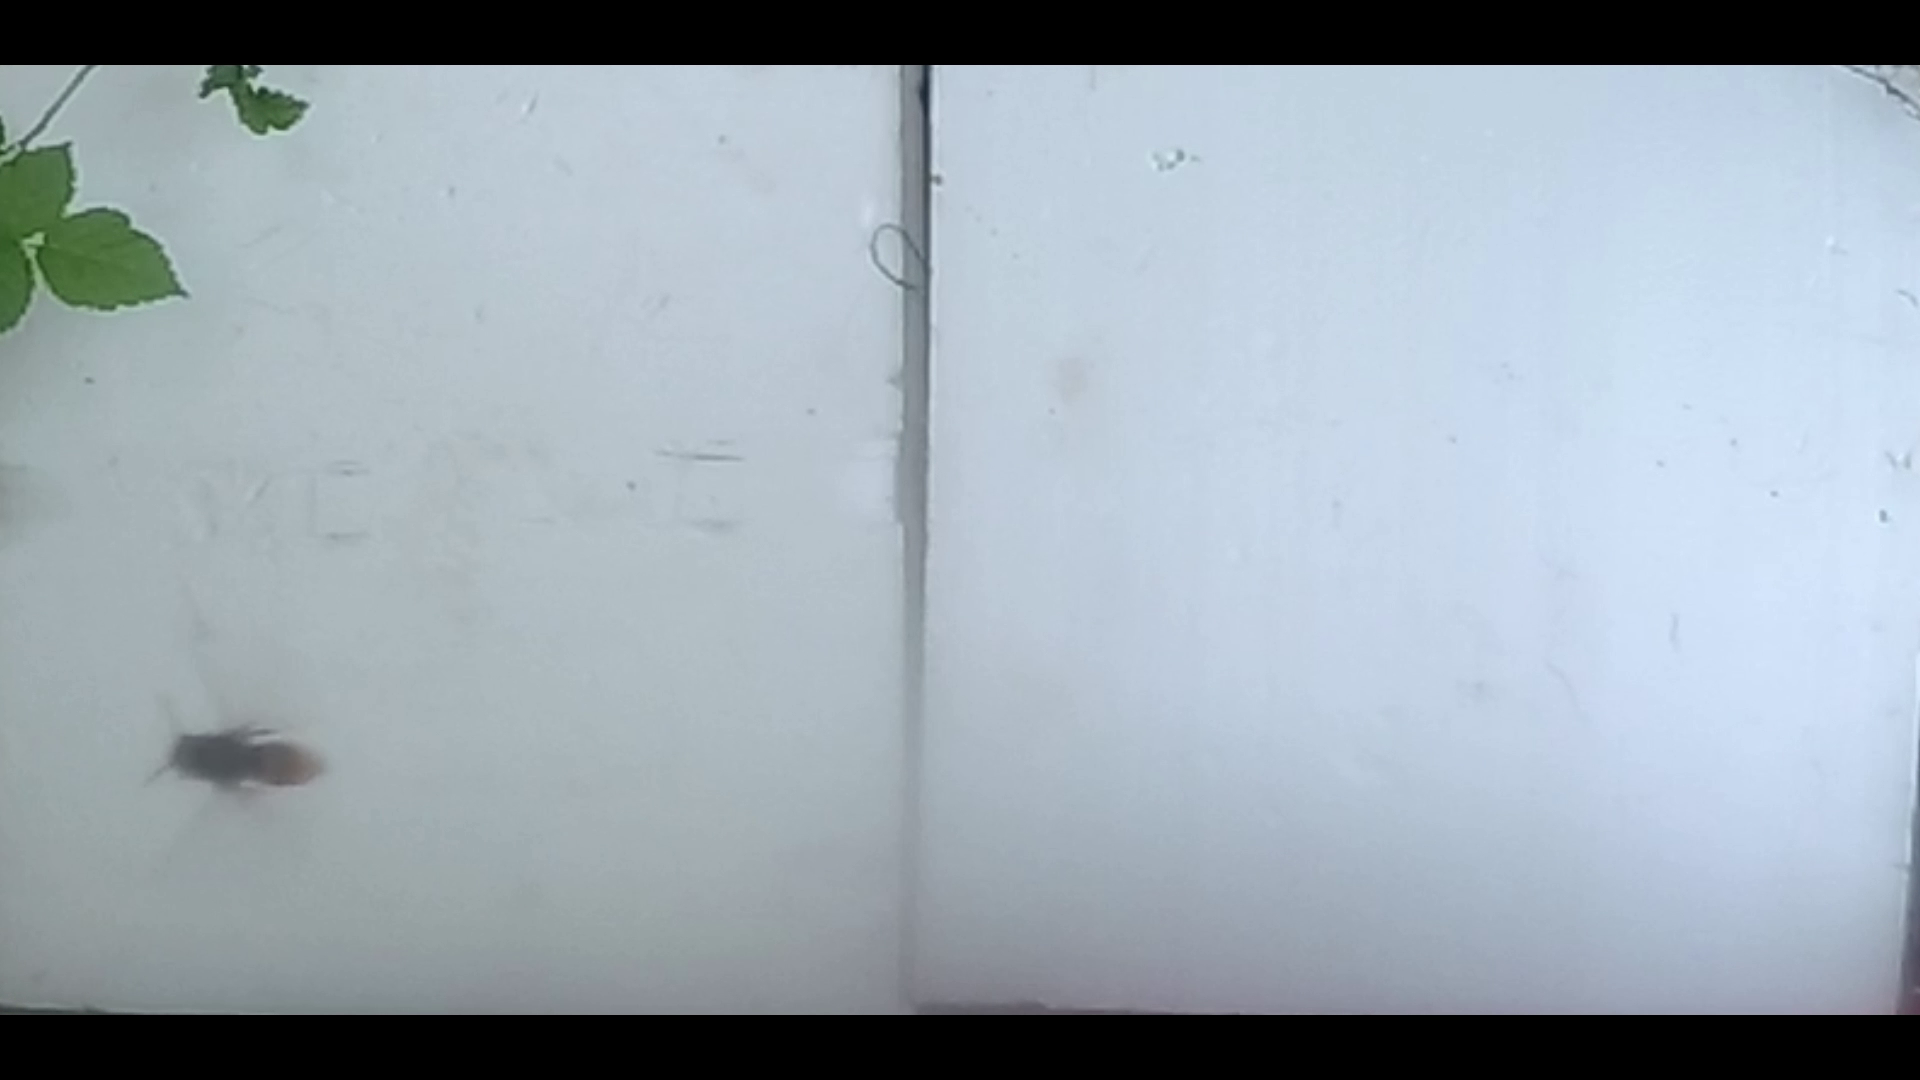Asian_hornets: (144, 683, 351, 829)
